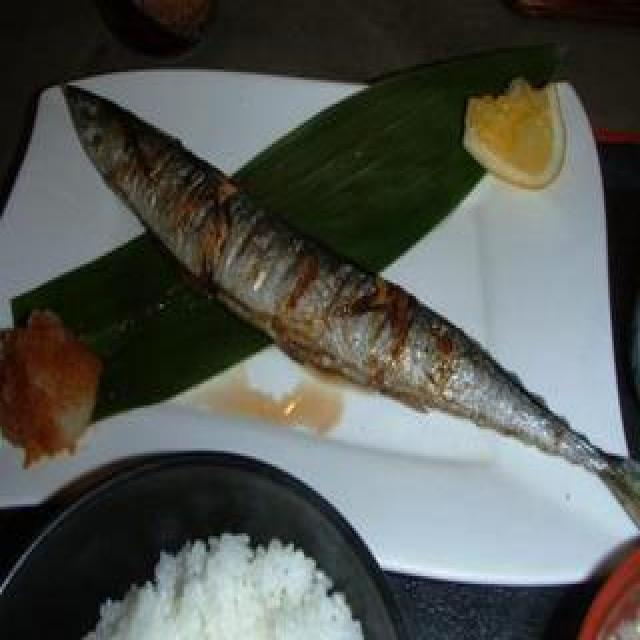熟制海鲜: (28, 69, 640, 528)
